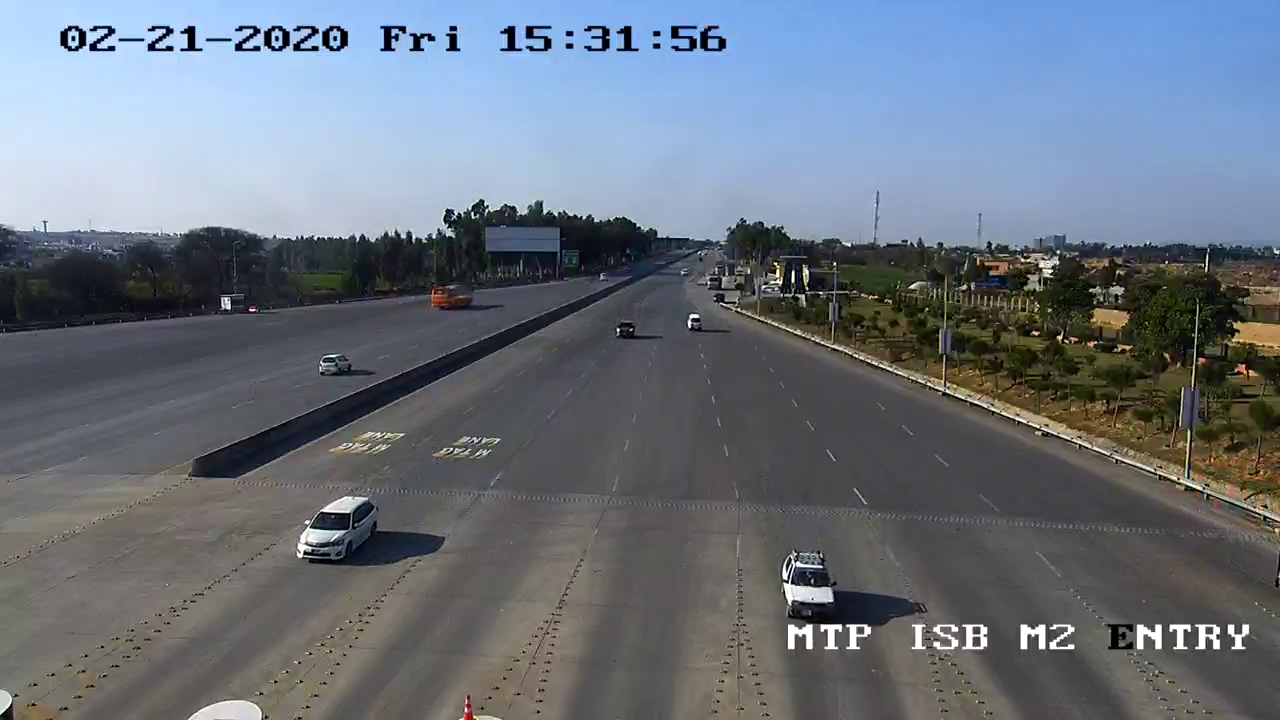f1: (286, 493, 386, 573), (774, 543, 849, 620)
